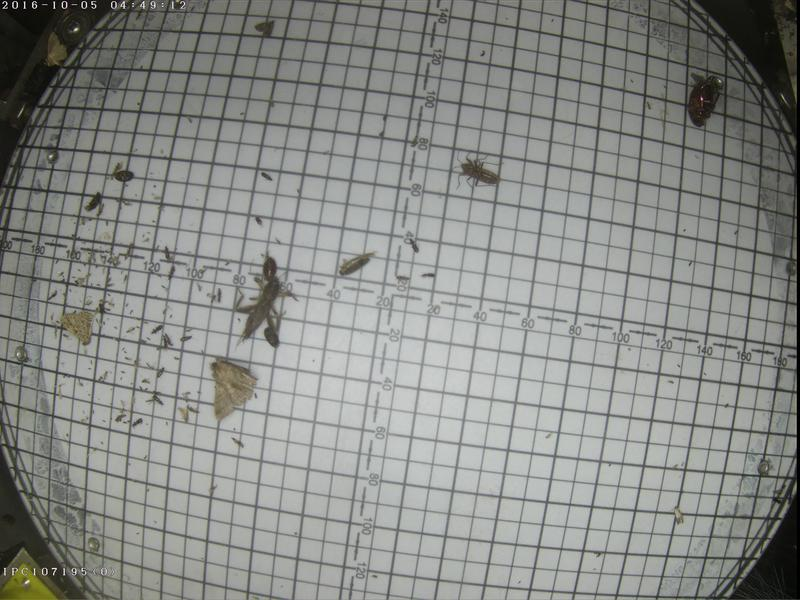Gryllotalpa orientalis: (236, 272, 296, 345)
